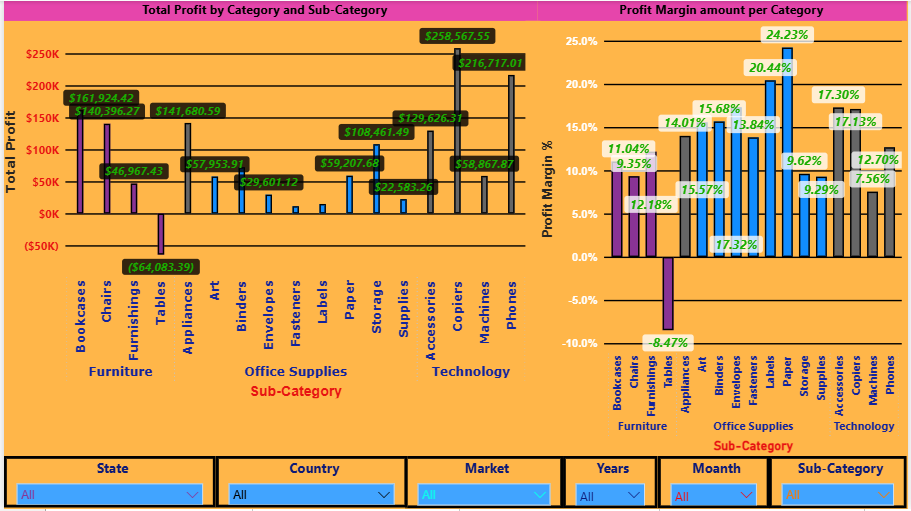

The page's visual inventory and layout, read from the dashboard file:
{"tool":"powerbi","page":{"name":"Page 7 \\2 Profit Market report","canvas":[1280,720],"ordinal":7},"visuals":[{"type":"clusteredColumnChart","title":"Profit Margin amount per Category","fields":{"Category":["Dim_Product.Category","Dim_Product.Sub-Category"],"Y":["fact table Global _ Superstore _ Cleaned.Profit Margin %"]},"box":[755.6,0,524.4,645.5],"z":0},{"type":"clusteredColumnChart","fields":{"Category":["Dim_Product.Category","Dim_Product.Sub-Category"],"Y":["fact table Global _ Superstore _ Cleaned.Total Profit"]},"box":[0,0,756.3,568.3],"z":1000},{"type":"slicer","title":"Years ","fields":{"Values":["Dim_Date.Year"]},"box":[792.8,645.5,133.5,74.3],"z":2000},{"type":"slicer","title":"Moanth","fields":{"Values":["Dim_Date.Month Name","Dim_Date.Month"]},"box":[926.3,645.5,158.3,74.3],"z":3000},{"type":"slicer","title":"Market","fields":{"Values":["Dim_Product.Sub-Category"]},"box":[568.4,645.5,224.3,74.3],"z":4000},{"type":"slicer","title":"Country","fields":{"Values":["Dim_Customer.Country"]},"box":[300,645.5,271.1,72.9],"z":5000},{"type":"slicer","title":"State","fields":{"Values":["fact table Global _ Superstore _ Cleaned.Order ID"]},"box":[0,645.5,300,72.9],"z":6000},{"type":"slicer","title":"Sub-Category","fields":{"Values":["Dim_Product.Sub-Category"]},"box":[1084.6,645.5,195.4,74.3],"z":7000}]}

Visuals, with their boxes in screenshot pixels (x1, y1, x2, y2), scaled from the page's 1280x720 canvas onto the 911x511 screenshot:
"Profit Margin amount per Category" clusteredColumnChart: [x1=538, y1=0, x2=910, y2=458]
clusteredColumnChart - Dim_Product.Category x Dim_Product.Sub-Category: [x1=0, y1=0, x2=538, y2=403]
"Years " slicer: [x1=564, y1=458, x2=659, y2=510]
"Moanth" slicer: [x1=659, y1=458, x2=772, y2=510]
"Market" slicer: [x1=405, y1=458, x2=564, y2=510]
"Country" slicer: [x1=214, y1=458, x2=406, y2=510]
"State" slicer: [x1=0, y1=458, x2=214, y2=510]
"Sub-Category" slicer: [x1=772, y1=458, x2=910, y2=510]
